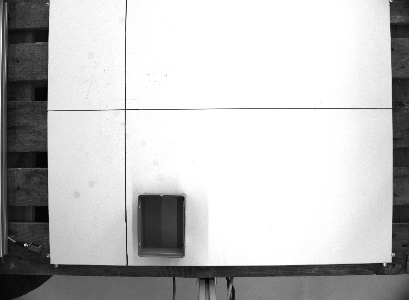klts: (134, 190, 188, 260)
